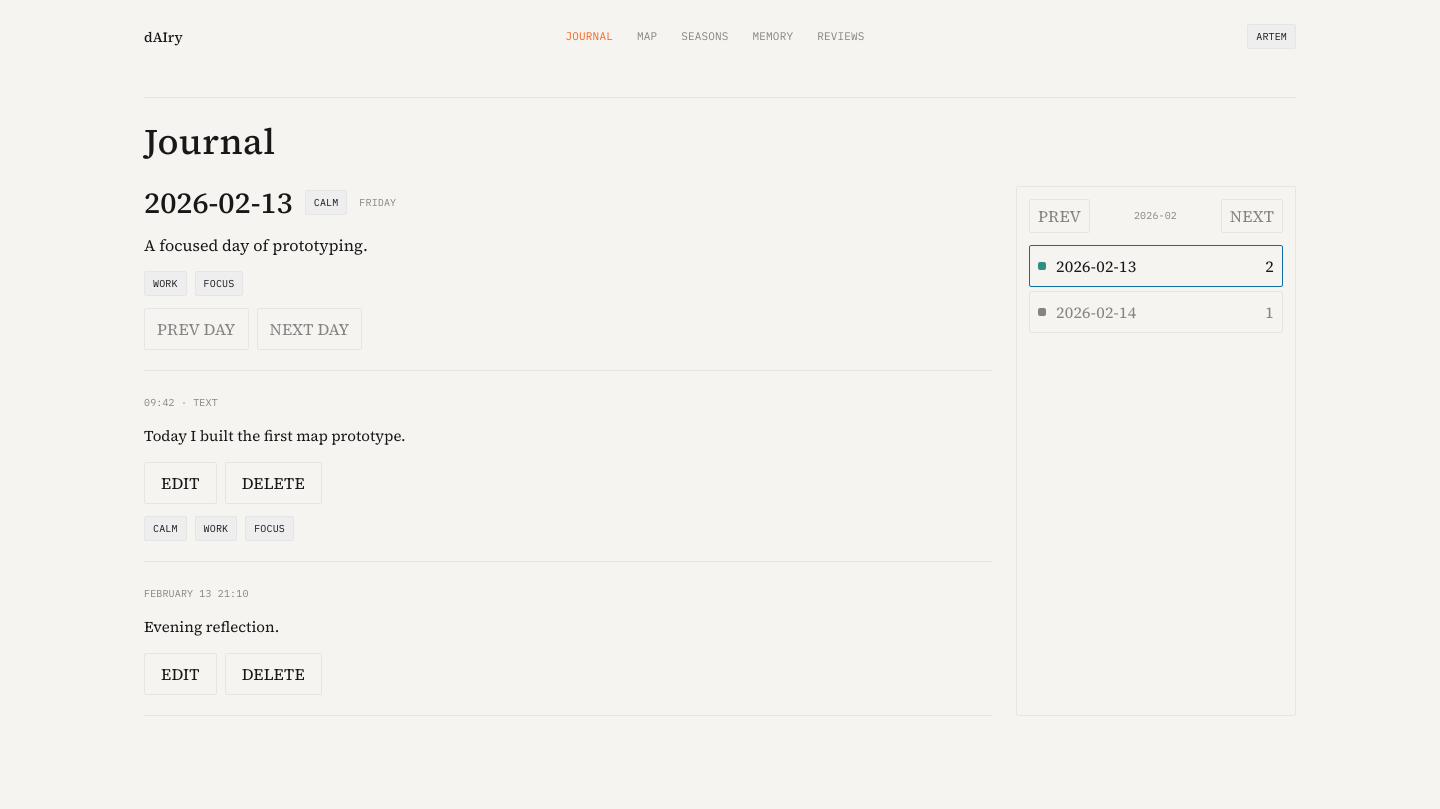
Test: Sprint 3 journal reader › 409 keeps the attempted edit visible after reloading
Click the button "EDIT" below "Today I built the first map prototype." at (180, 483), box x1=144 y1=462 x2=217 y2=504
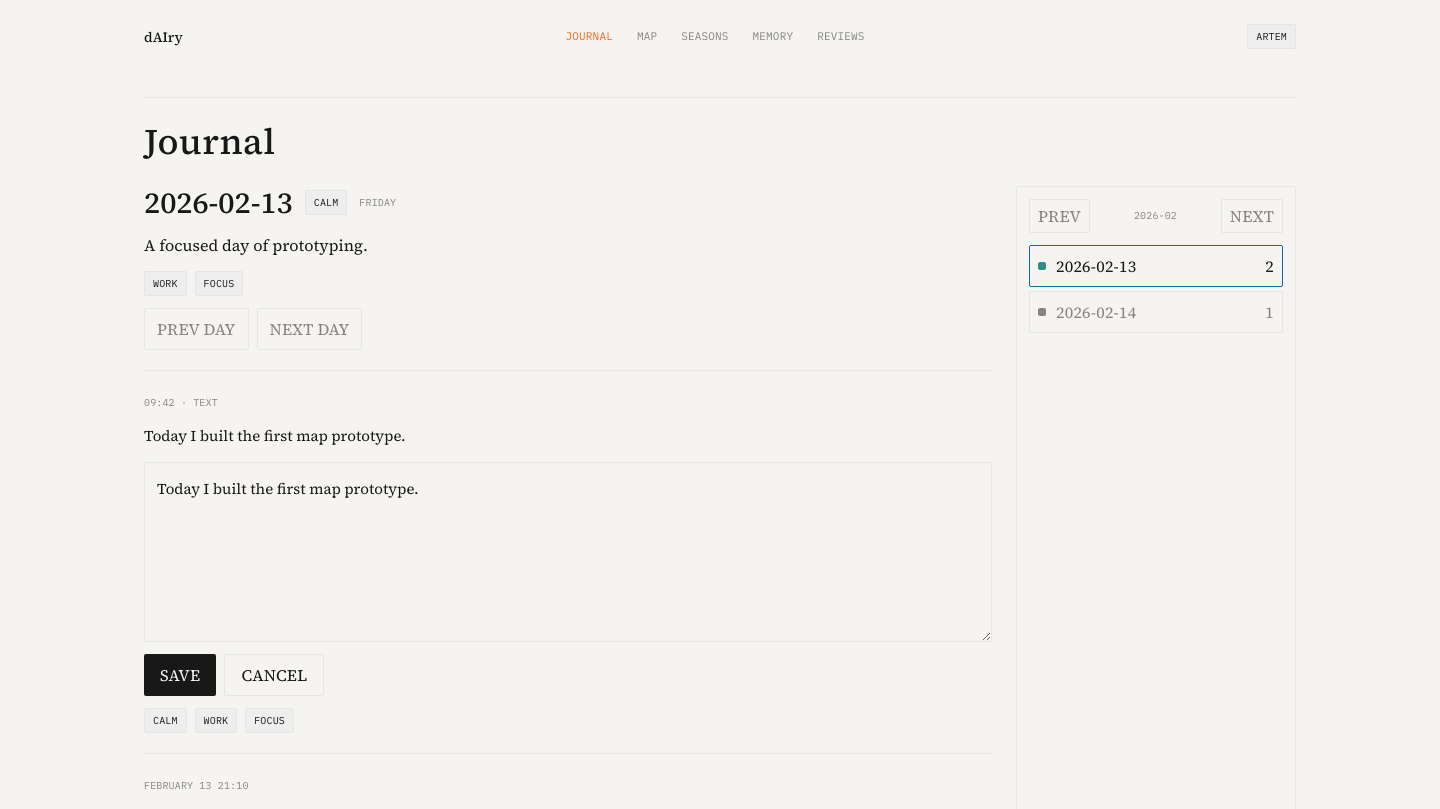
Replace the text in the text box with "My unsaved version." at (568, 552), box x1=144 y1=462 x2=992 y2=642
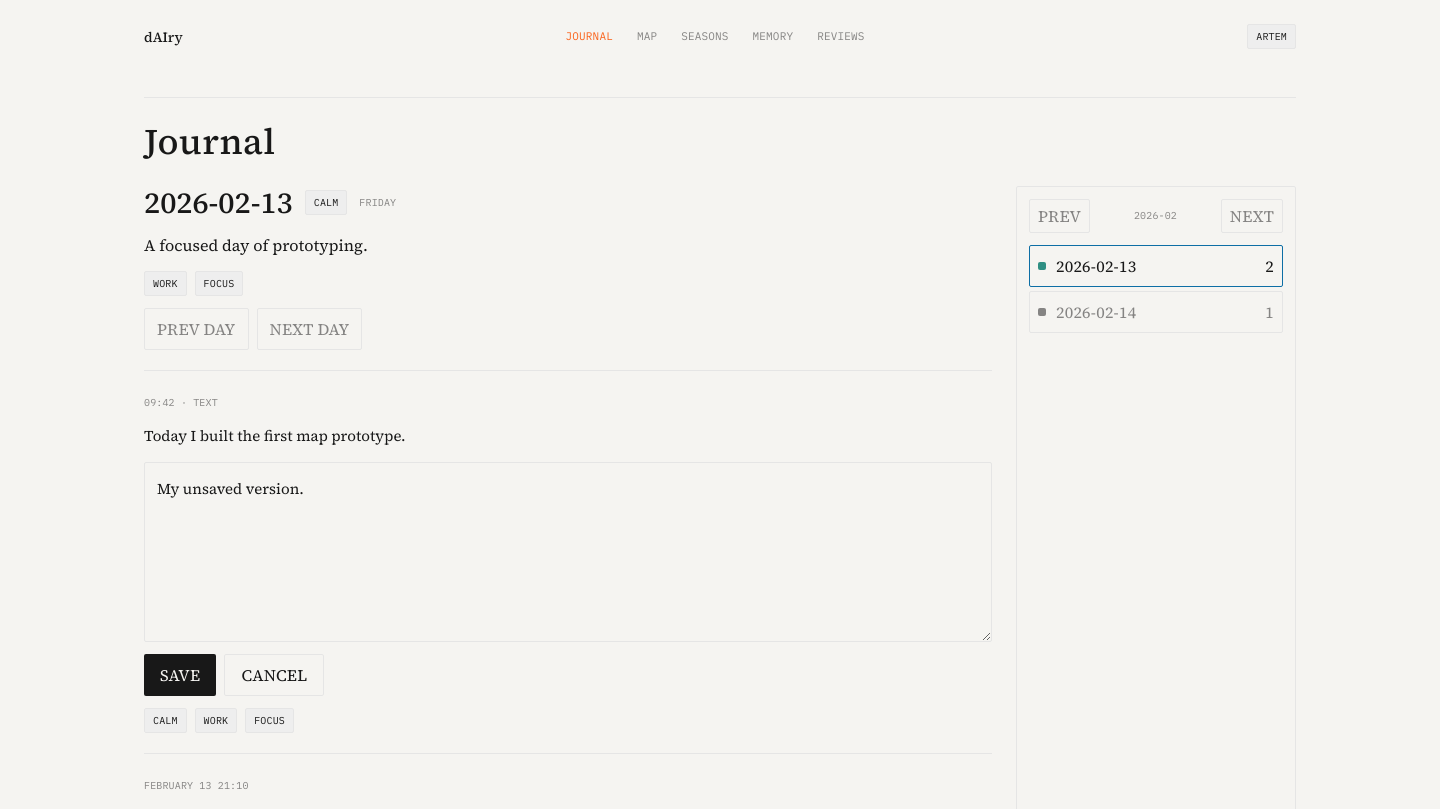
Click the button "SAVE" at (180, 675), box x1=144 y1=654 x2=216 y2=696
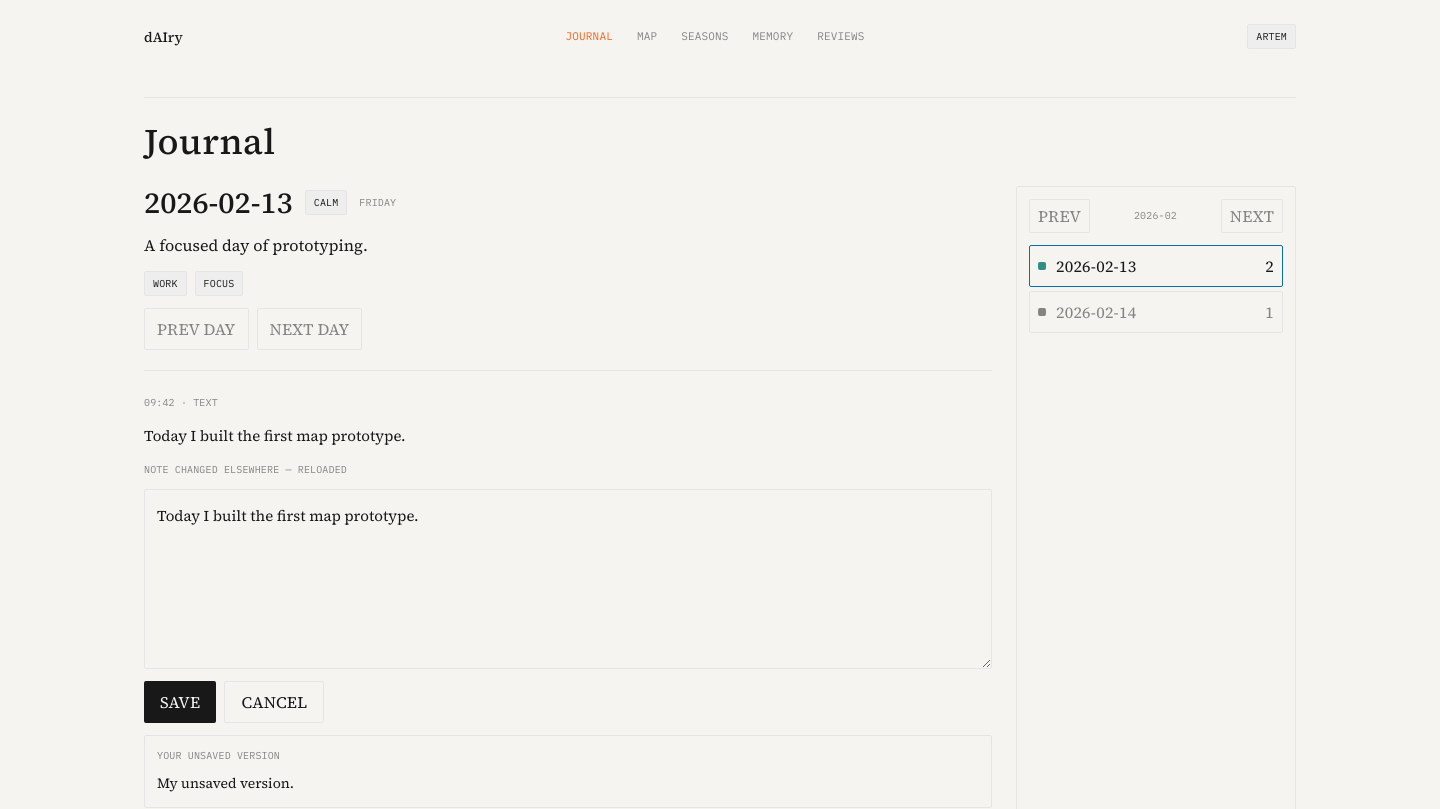
Now the text "NOTE CHANGED ELSEWHERE — RELOADED" is shown, box x1=144 y1=463 x2=347 y2=476
Now the text "YOUR UNSAVED VERSION" is shown, box x1=157 y1=749 x2=280 y2=762
Now the text "My unsaved version." is shown, box x1=157 y1=773 x2=294 y2=793
